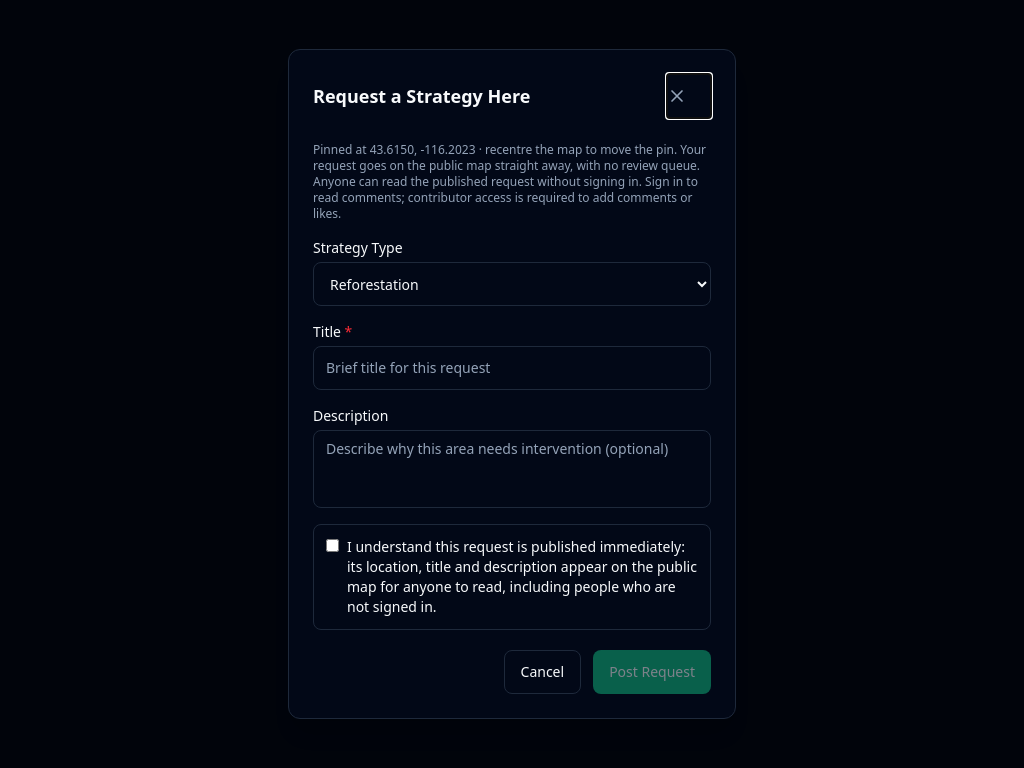
Test: RequestSubmitModal submission › refuses to submit without consent and says why
Type "Swales above the north pasture" into the field with placeholder "Brief title for this request" at x=512, y=368, box [313, 346, 711, 390]
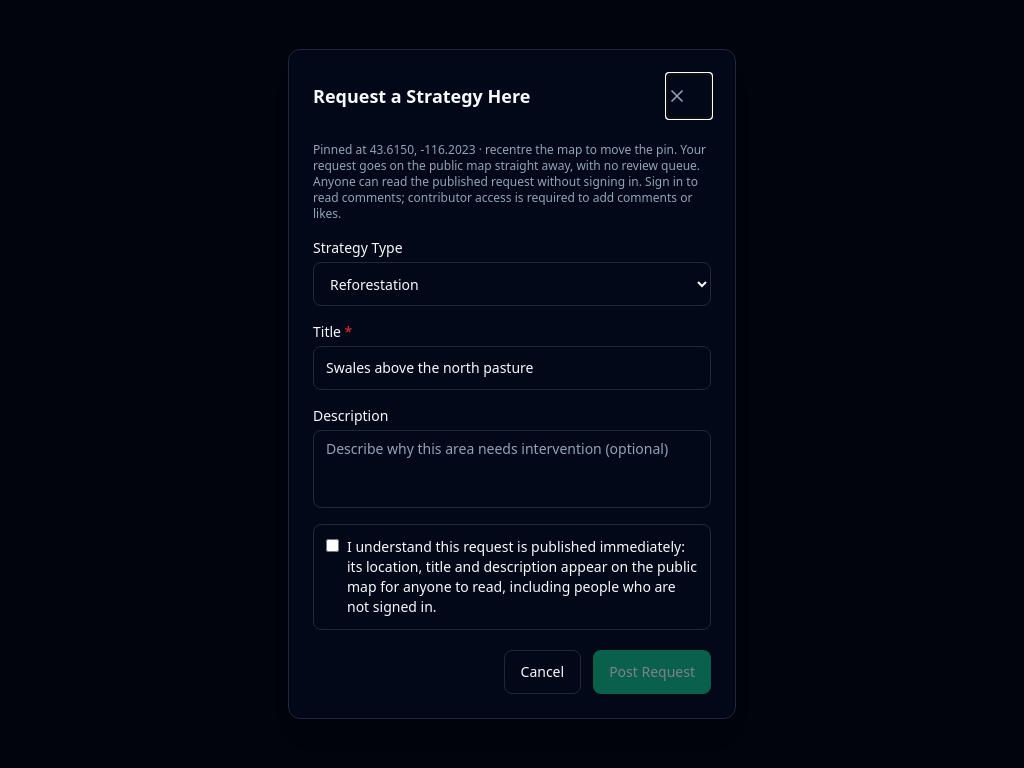
Submit the form named "post request", box [313, 238, 711, 694]
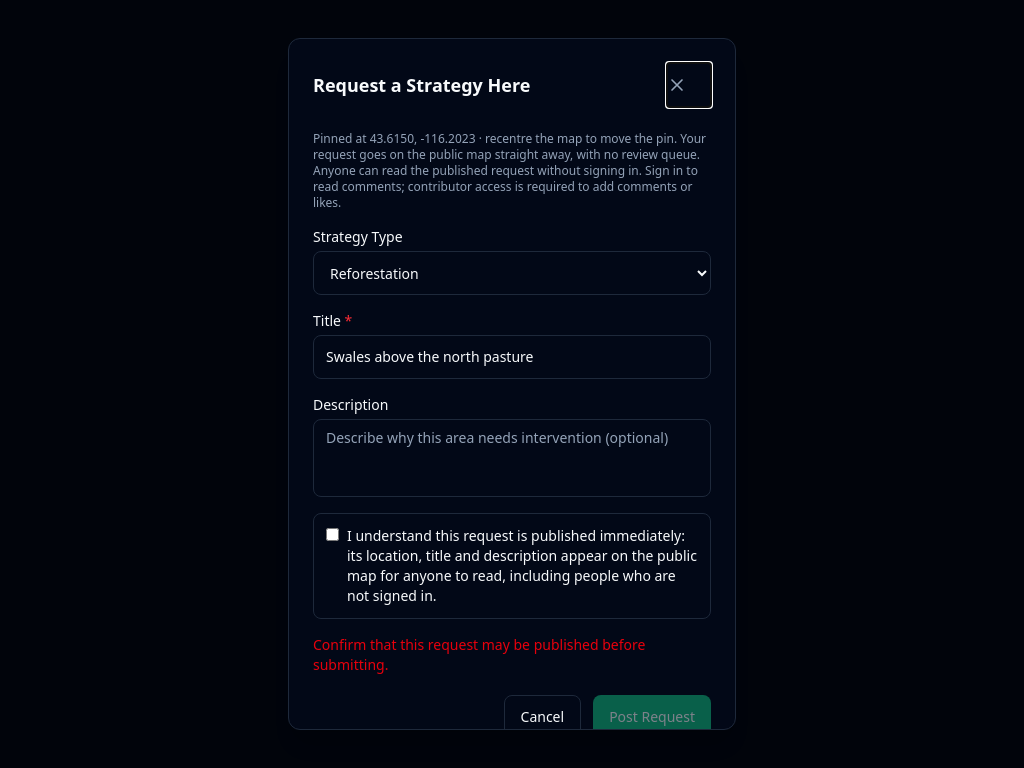
expect the message shows "publish": met, box [313, 635, 646, 674]
